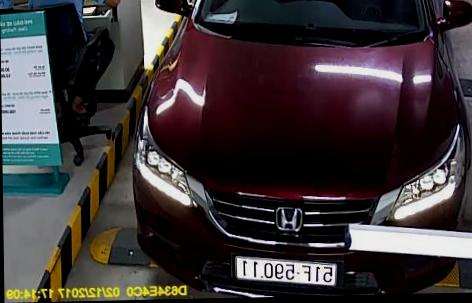License_Plate: (236, 258, 340, 285)
